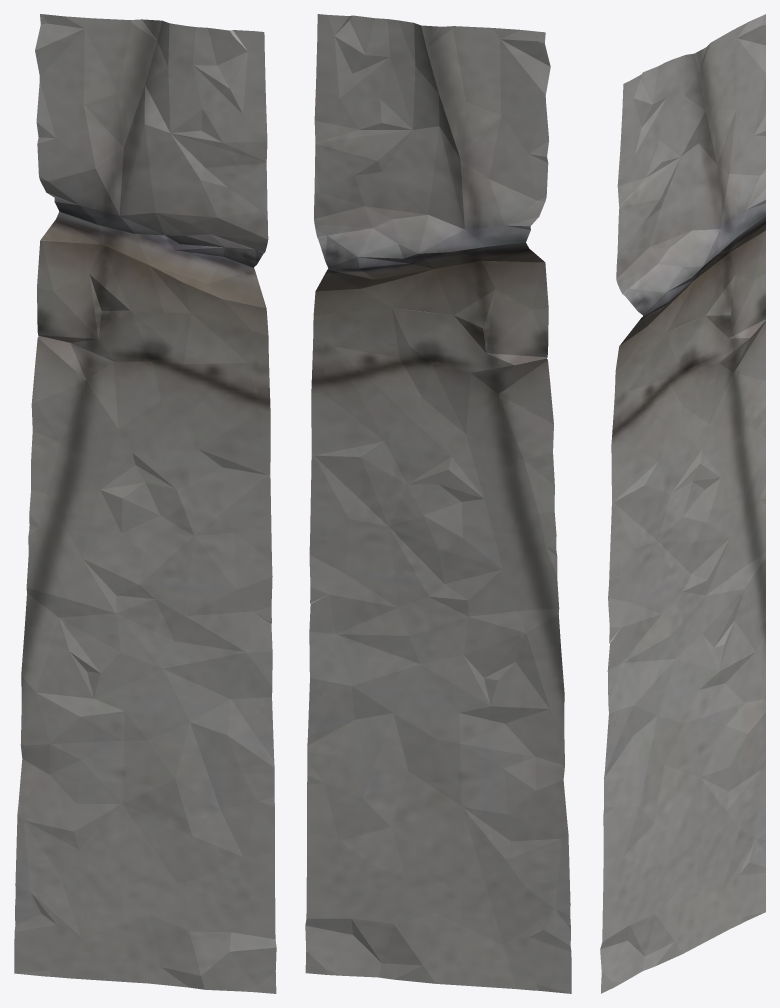
3 renders of one model, left to right at view 1: azimuth 30°, elevation 25°; view 2: azimuth 210°, elevation 25°; view 3: azimuth 270°, elevation 25°, orthographic. The views are drawn at different scales.
Bounding box in the file's own units: 0.1613 × 0.8374 × 0.1382.
1 material, 1 textured.
